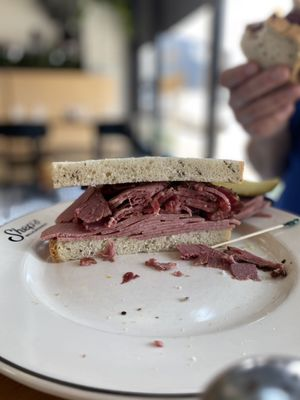soup: (36, 156, 280, 263)
